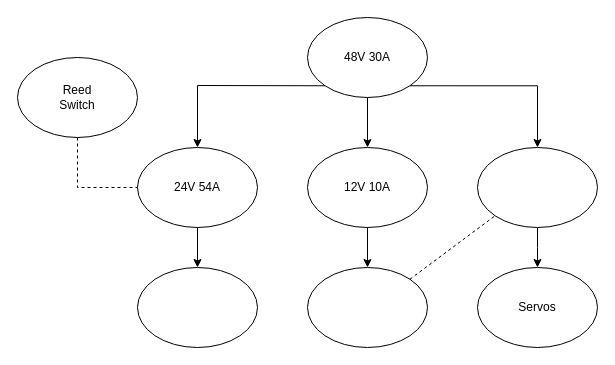
The diagram is 615 pixels wide and 365 high, and some of its shapes have lost their labels. Here are the shapes that lost their labels. From the top down, the centre of each, then its label:
At [537,187]: "5V 20A".
At [197,307]: "Thrusters".
At [367,307]: "Computers".
